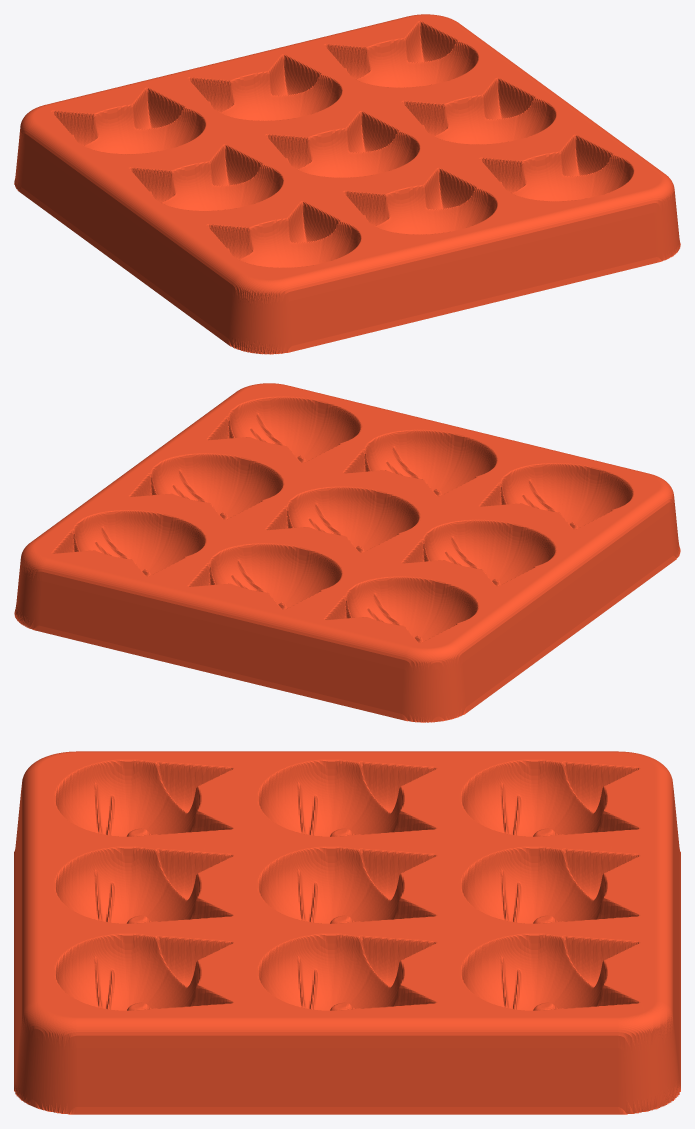
Rendered from mold.glb.
3 views of the same model, one above another, from view 1: azimuth 30°, elevation 25°; view 2: azimuth 150°, elevation 25°; view 3: azimuth 270°, elevation 25° (orthographic). The views are drawn at different scales.
Visible parts, largest first — view 1: geometry_0; view 2: geometry_0; view 3: geometry_0.
Part boxes in pixels (box(x1,y1,x2,y2)): geometry_0: box(14, 14, 680, 354); geometry_0: box(14, 383, 680, 722); geometry_0: box(14, 751, 680, 1114).
Bounding box in the file's own units: 0.0964 × 0.0136 × 0.0952.
